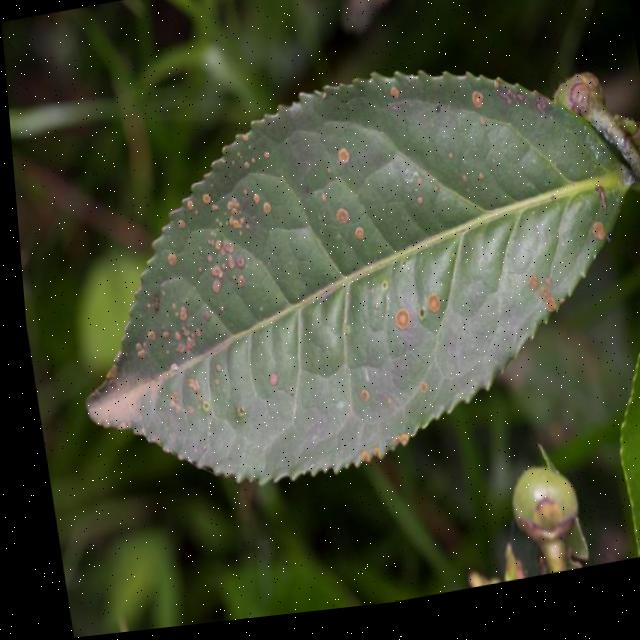Tea algae leaf spot: (100, 71, 607, 481)
